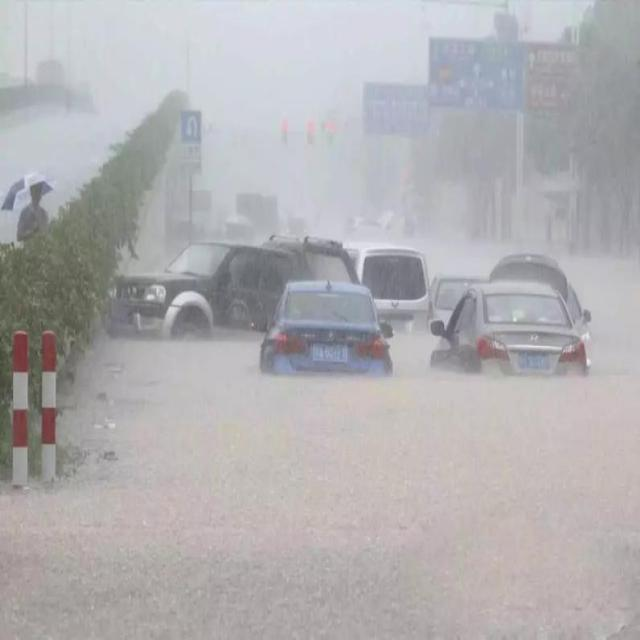water: (1, 238, 637, 637)
